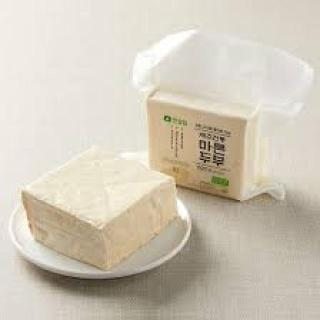Tahu: (7, 136, 183, 278)
